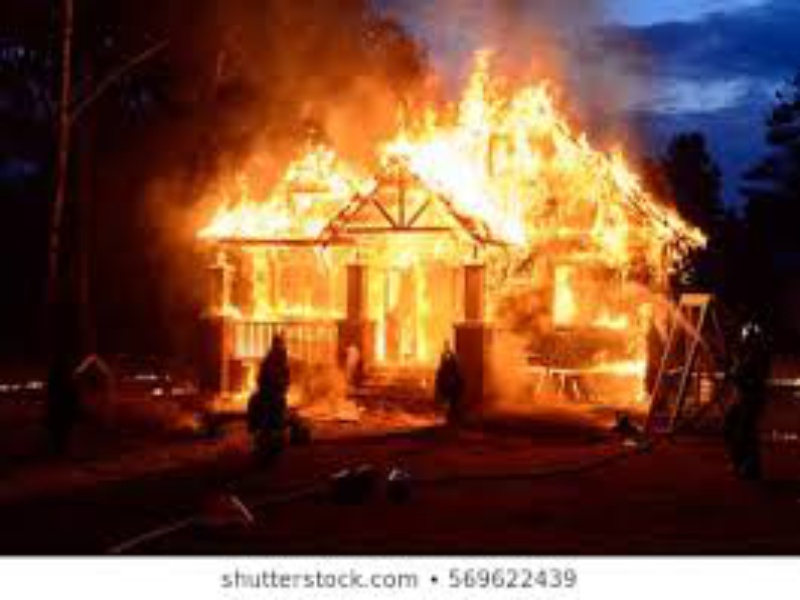fire: (186, 164, 703, 261), (374, 58, 600, 166), (556, 264, 676, 405), (354, 268, 471, 391), (197, 265, 342, 326)
